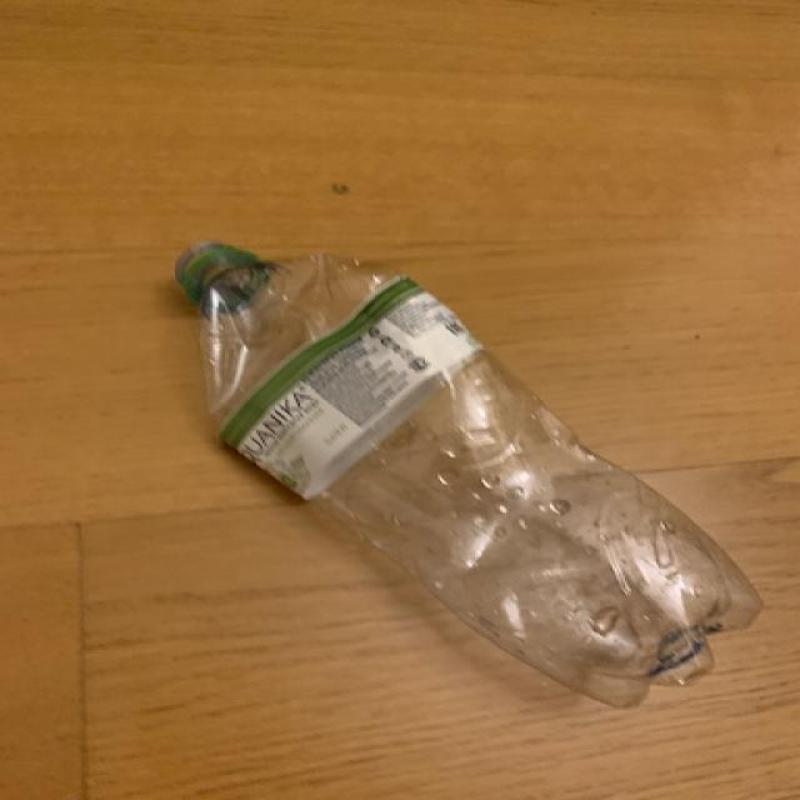botella: (175, 241, 769, 719)
